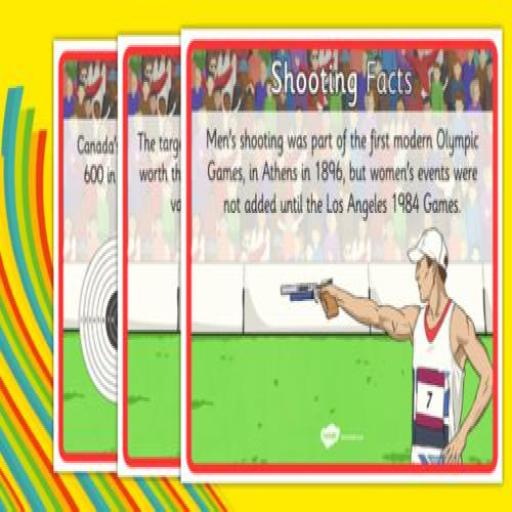shooting: (316, 223, 494, 473)
